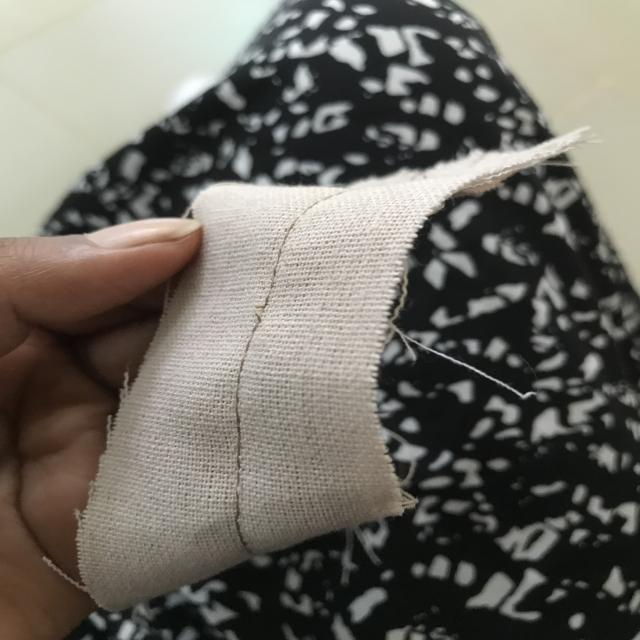broken: (242, 288, 282, 332)
